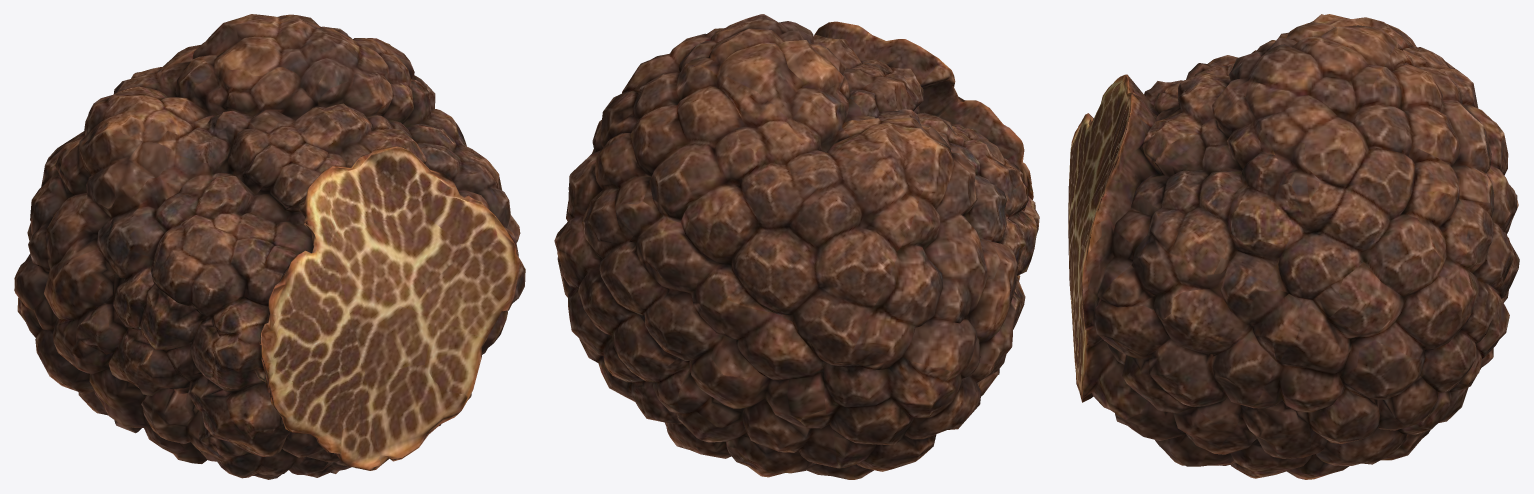
Rendered from truffle.glb.
The picture shows the model from 3 angles, left to right: view 1: azimuth 30°, elevation 25°; view 2: azimuth 150°, elevation 25°; view 3: azimuth 270°, elevation 25°; orthographic projection. The views are drawn at different scales.
Visible parts, largest first — view 1: tripo_node_787da683-9d07-4bf4-b497-0a67e34f7fa3; view 2: tripo_node_787da683-9d07-4bf4-b497-0a67e34f7fa3; view 3: tripo_node_787da683-9d07-4bf4-b497-0a67e34f7fa3.
Boxes of the visible parts, bbox=[...] form: tripo_node_787da683-9d07-4bf4-b497-0a67e34f7fa3: bbox=[14, 14, 525, 479]; tripo_node_787da683-9d07-4bf4-b497-0a67e34f7fa3: bbox=[554, 14, 1039, 479]; tripo_node_787da683-9d07-4bf4-b497-0a67e34f7fa3: bbox=[1068, 14, 1519, 479].
Bounding box in the file's own units: 0.9783 × 0.9397 × 0.8852.
Materials: 1 (1 with a texture image).
